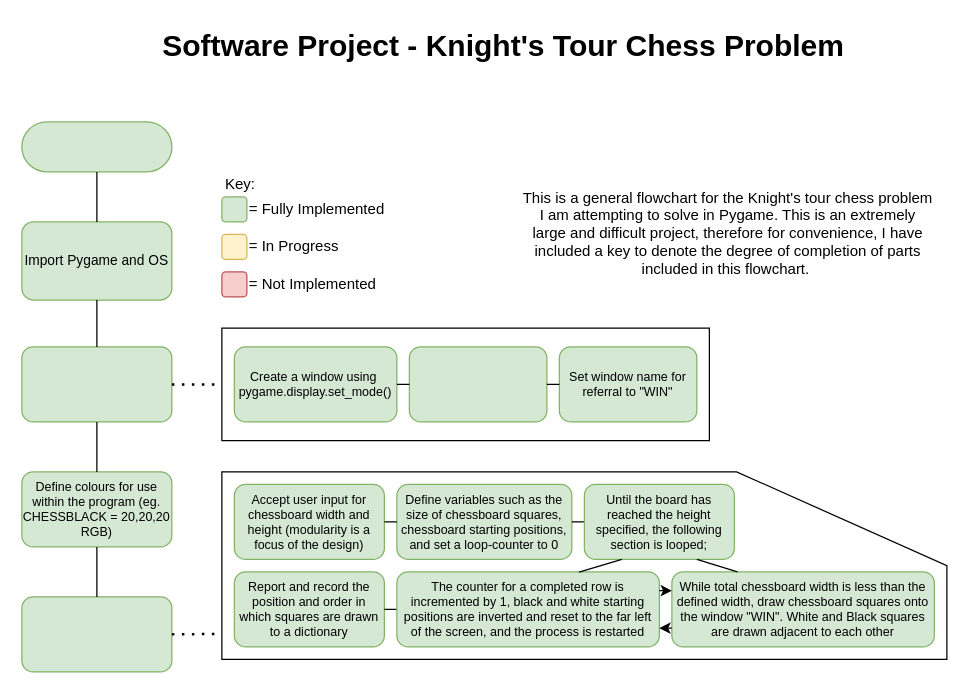
The diagram is 969 pixels wide and 694 high, and some of its shapes have lost their labels. Each missing label, with the box of its shape:
Create a Window with Pygame: (21, 346, 172, 422)
Produce "create_board" Function: (21, 596, 172, 672)
Project Start: (21, 121, 172, 172)
Set window dimensions to Fullscreen using pygame.FULLSCREEN: (408, 346, 547, 422)
